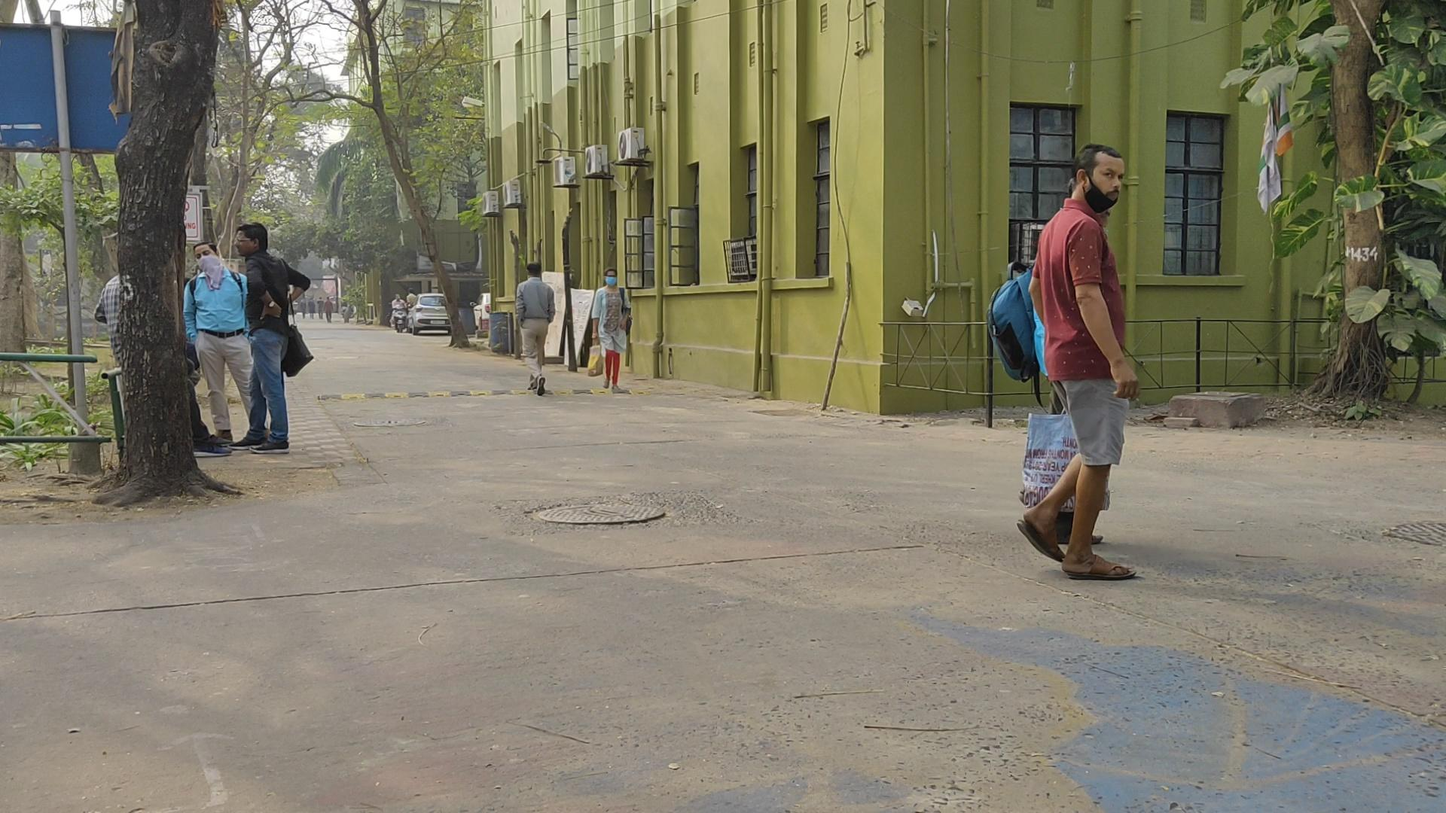bike: (389, 293, 412, 333)
car: (407, 293, 455, 336)
